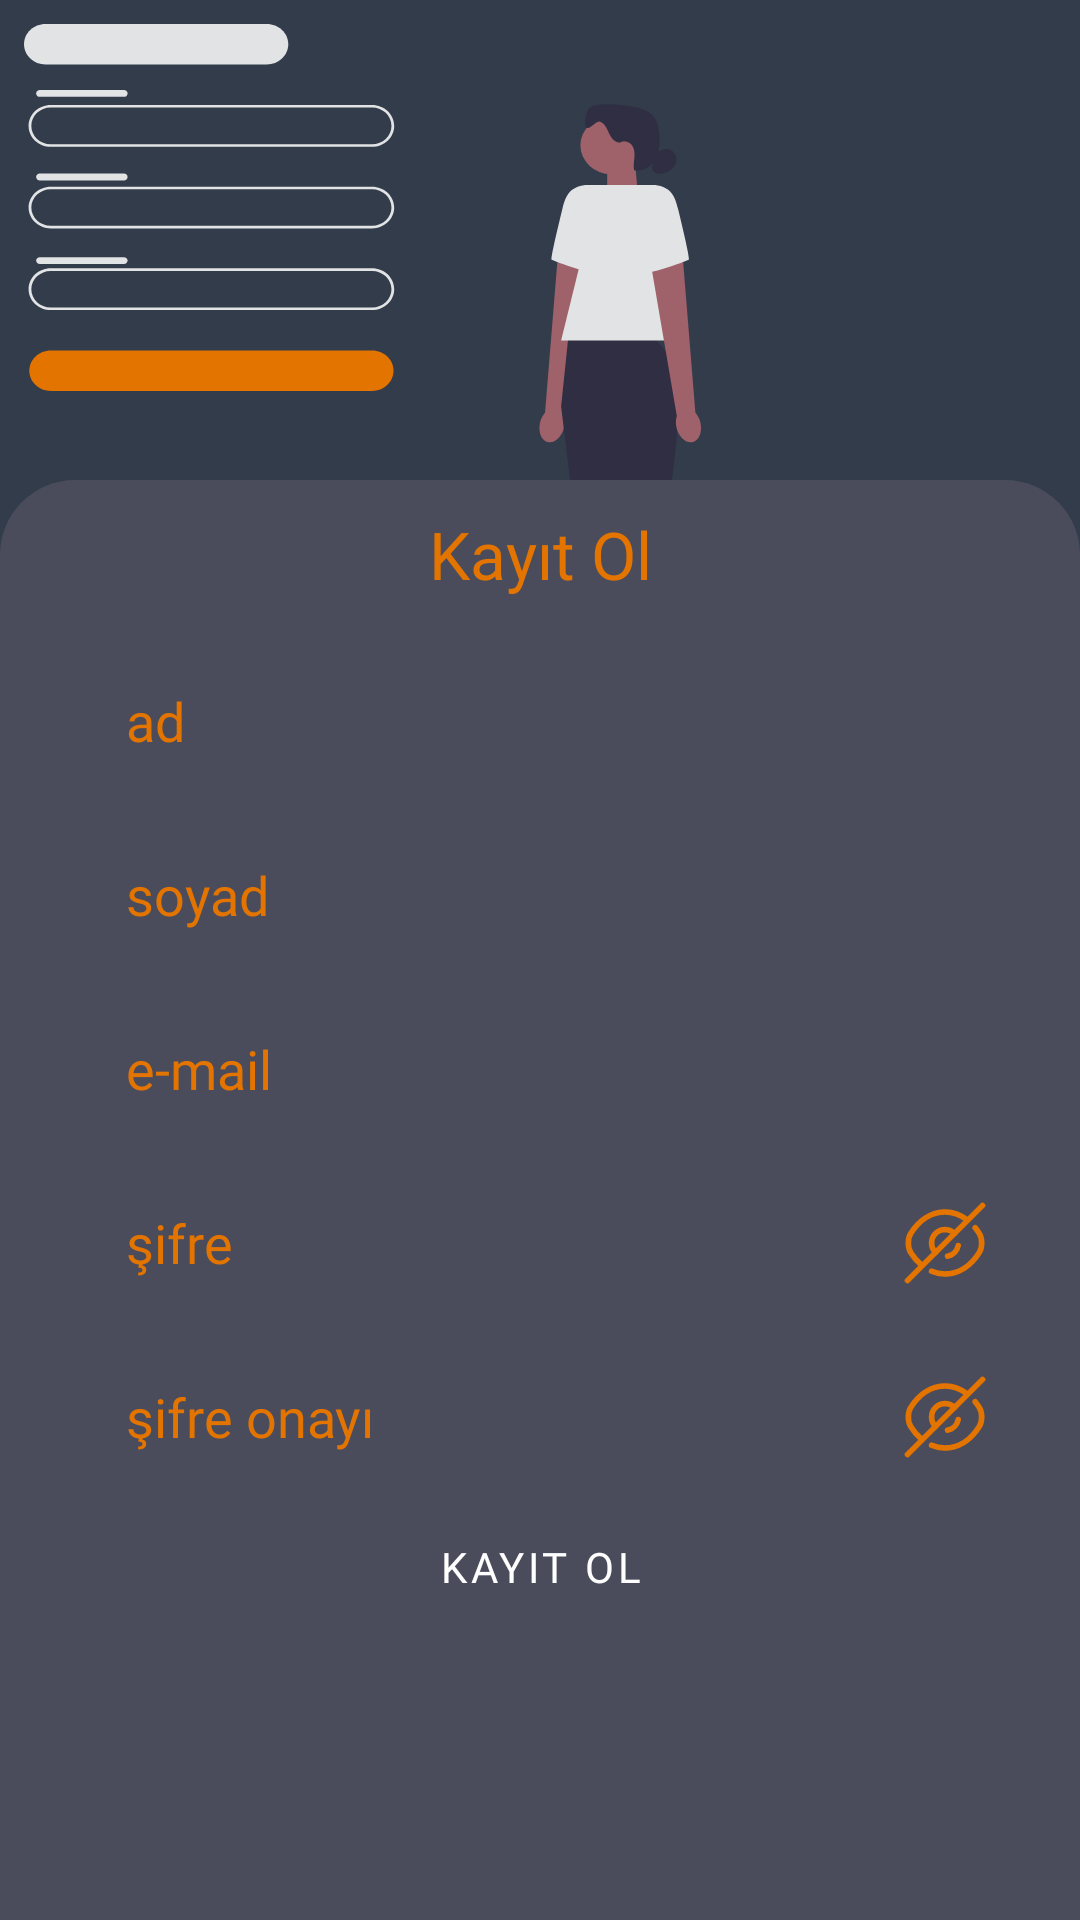

Screen size 1080px×1920px. Icon name, then its box in pixels as [x1=x1, y1=y1, x2=x2, y2=y2]:
eye close: [x1=904, y1=1202, x2=986, y2=1284], [x1=904, y1=1376, x2=986, y2=1458]
